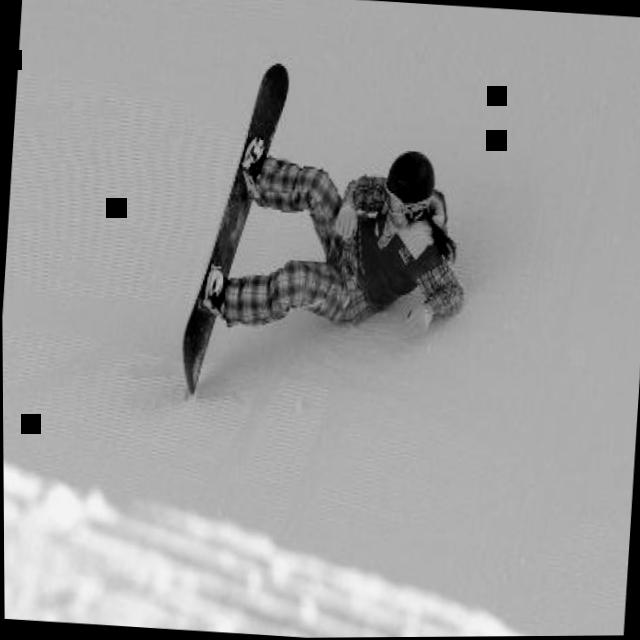Fall-Detected: (178, 93, 488, 398)
